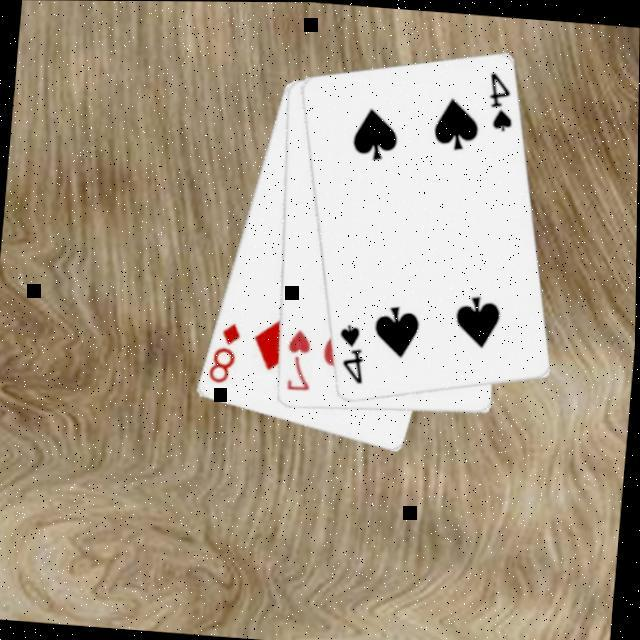4S: (334, 320, 372, 388), (484, 69, 520, 136)
7H: (283, 326, 320, 396)
8D: (206, 318, 247, 388)
